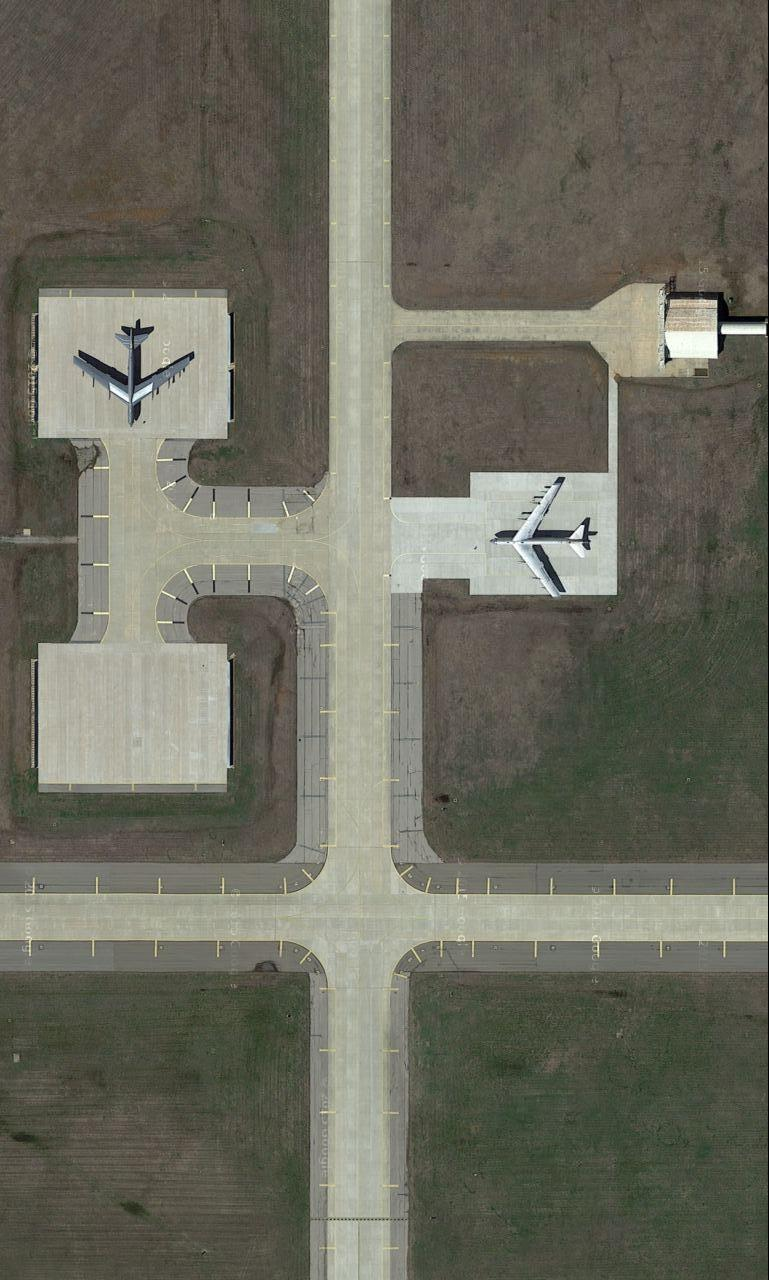B-52: (487, 473, 599, 603), (71, 319, 195, 427)
